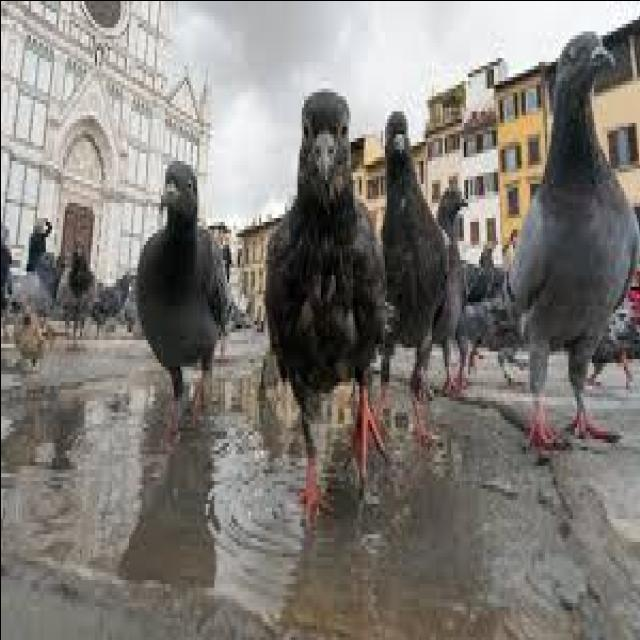pigeon: (474, 15, 638, 436)
